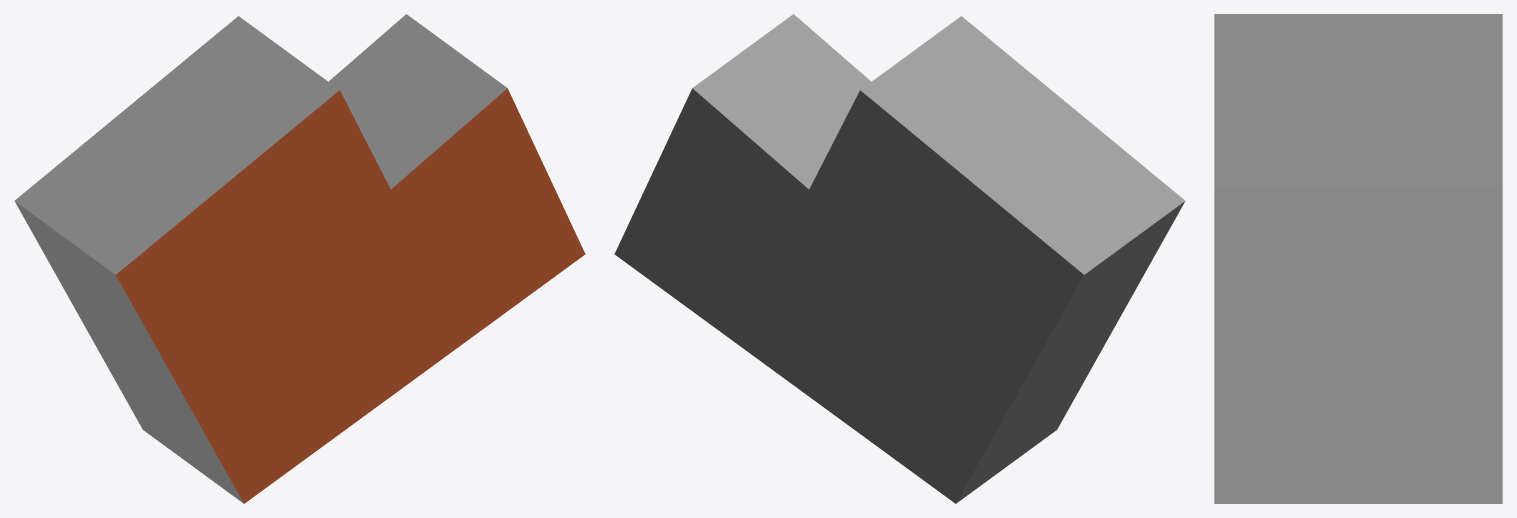
File: construction_4408_assumed_A_Casa_h6m.obj
3 renders of one model, left to right at view 1: azimuth 30°, elevation 25°; view 2: azimuth 150°, elevation 25°; view 3: azimuth 270°, elevation 25°, orthographic. The views are drawn at different scales.
Parts seen in each view (by area): view 1: construction_4408_assumed_A_Casa; view 2: construction_4408_assumed_A_Casa; view 3: construction_4408_assumed_A_Casa.
Part boxes in pixels (box(x1,y1,x2,y2)): construction_4408_assumed_A_Casa: box(14, 14, 585, 503); construction_4408_assumed_A_Casa: box(614, 14, 1185, 503); construction_4408_assumed_A_Casa: box(1214, 14, 1502, 503).
Bounding box in the file's own units: 16.07 × 12.76 × 6.
